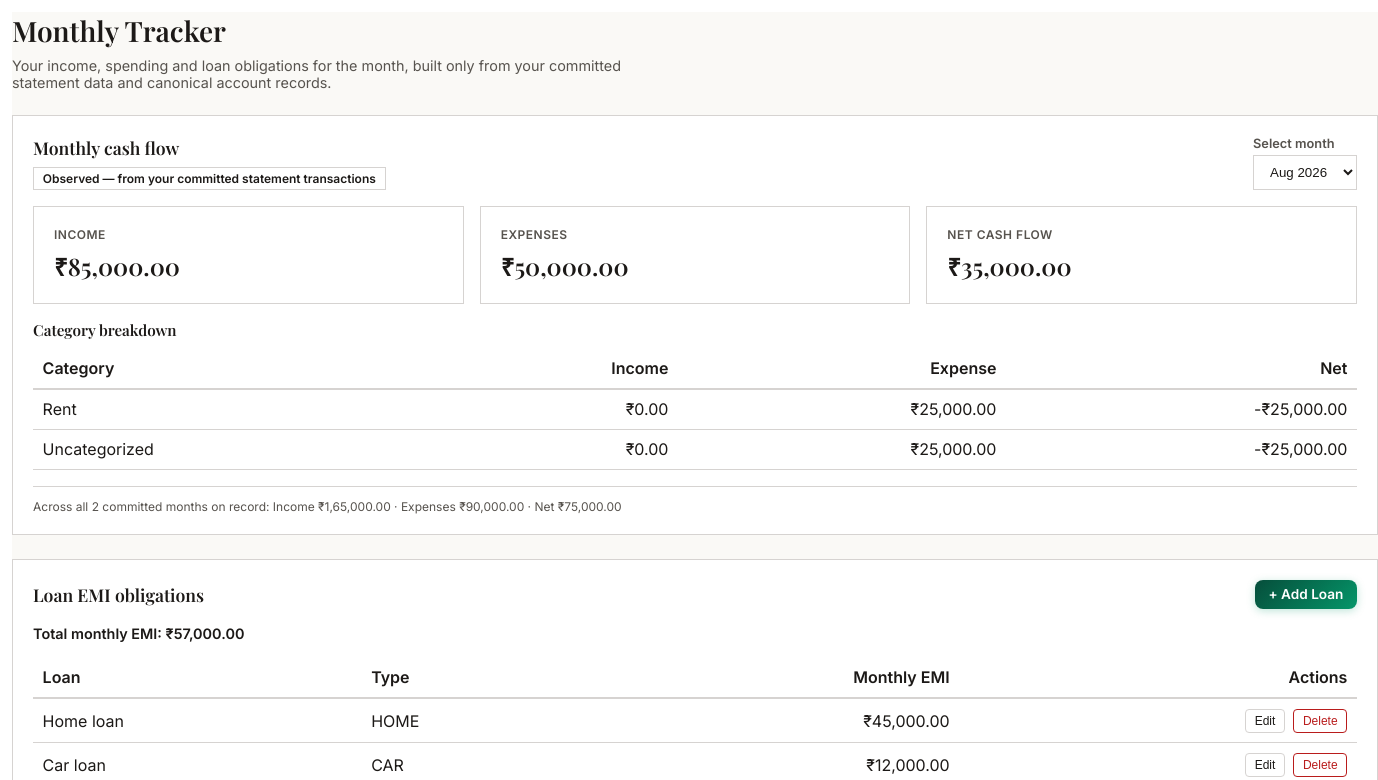
it: MonthlyTracker page (canonical data only, no fabricated figures) › month selection switches the displayed figures
expect the text with test id "month-income" shows "85,000.00": met, box 54,250 -> 180,282
Select "Jul 2026" in the dropdown labelled "Select month" at (1305, 172), box 1253,155 -> 1357,190
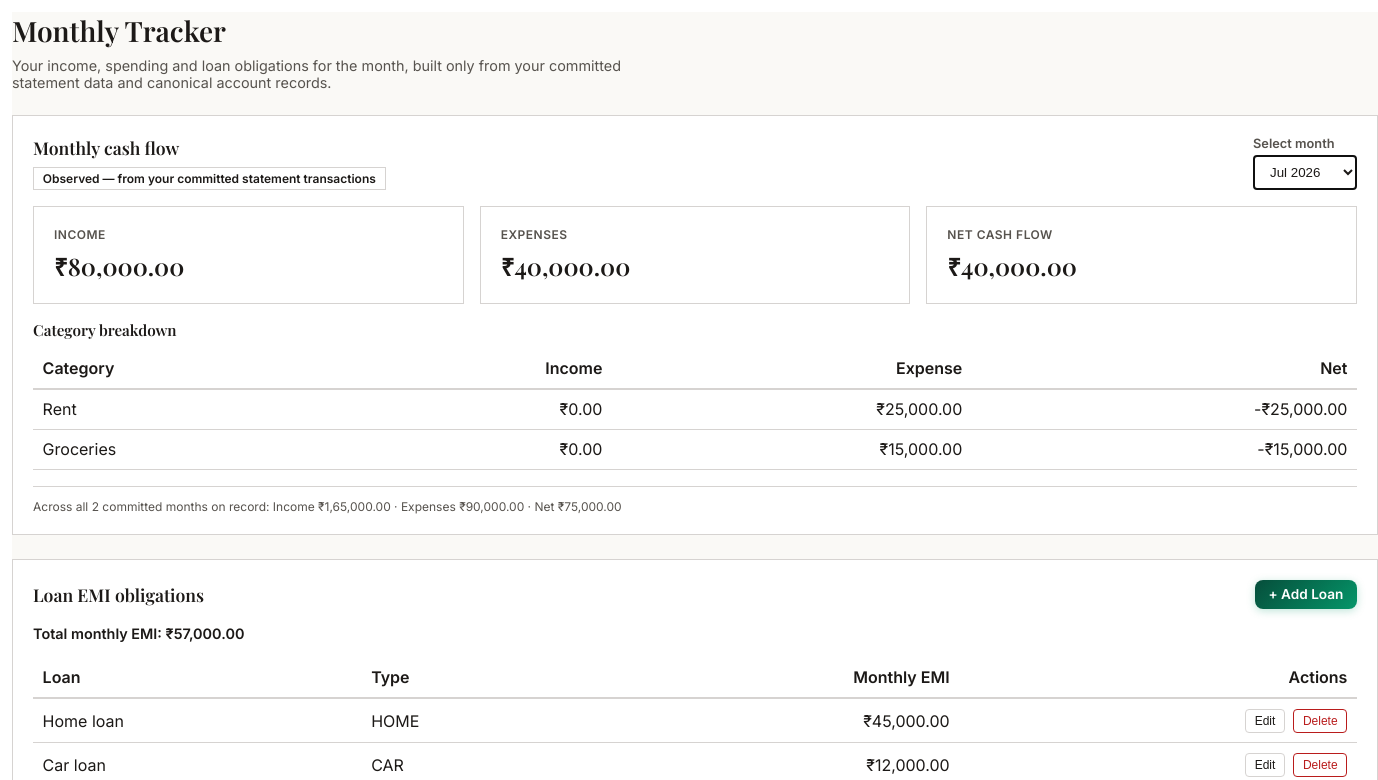
expect the text with test id "month-income" shows "80,000.00": met, box 54,250 -> 184,282
expect the text with test id "month-expense" shows "40,000.00": met, box 501,250 -> 630,282
expect the text with test id "month-net" shows "40,000.00": met, box 947,250 -> 1077,282
